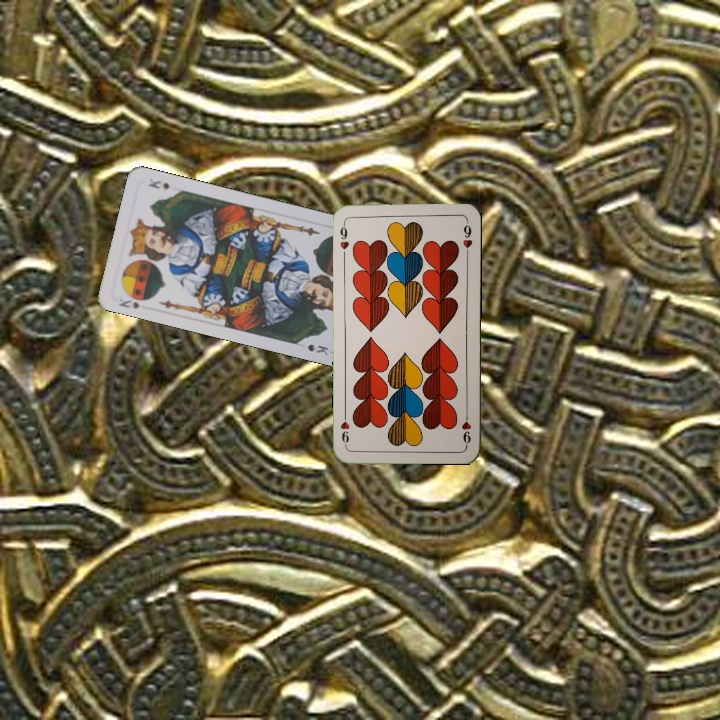H9: (458, 407, 474, 448), (336, 218, 352, 259)
SK: (115, 294, 142, 312)
